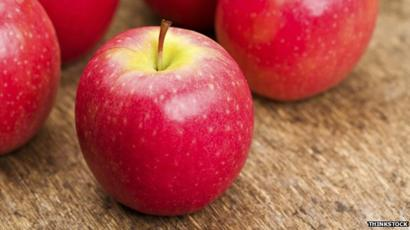apple: (76, 25, 253, 215)
